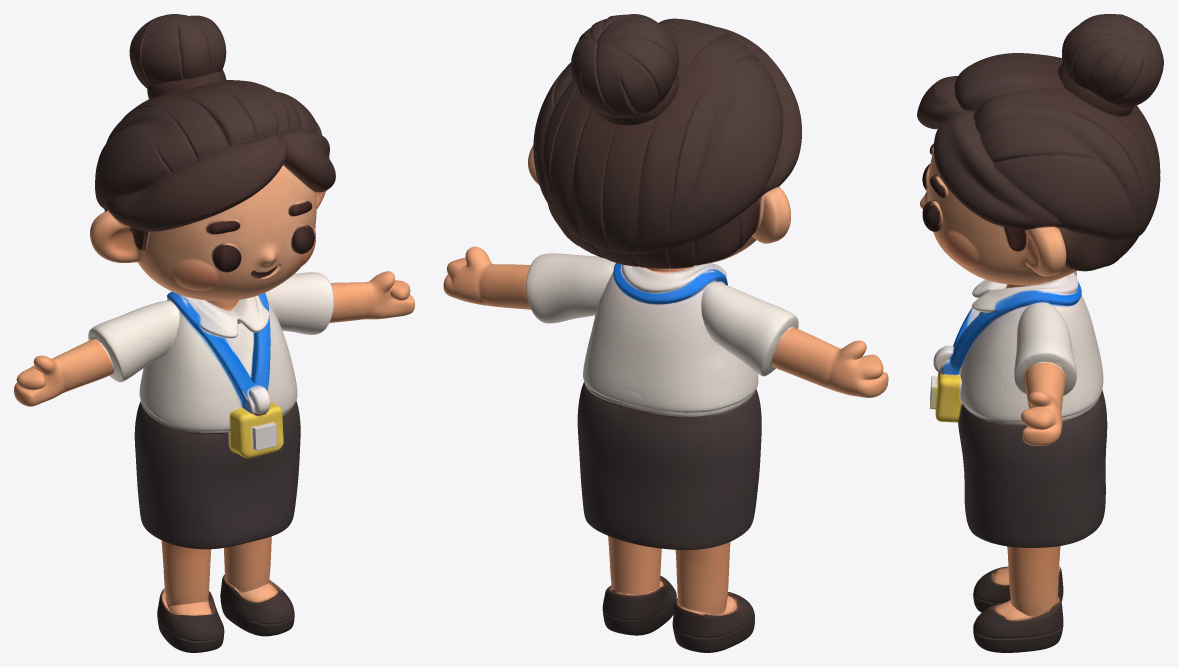
Rendered from tripo_convert_91d65fab-5eea-454a-84e6-52735a8d91f3.fbx.
3 renders of one model, left to right at view 1: azimuth 30°, elevation 25°; view 2: azimuth 150°, elevation 25°; view 3: azimuth 270°, elevation 25°, orthographic. The views are drawn at different scales.
Visible parts, largest first — view 1: tripo_node_91d65fab; view 2: tripo_node_91d65fab; view 3: tripo_node_91d65fab.
Boxes of the visible parts, x1,y1,x2,y2 form: tripo_node_91d65fab: [14, 14, 414, 652]; tripo_node_91d65fab: [443, 14, 888, 652]; tripo_node_91d65fab: [917, 14, 1163, 652].
Bounding box in the file's own units: 0.7081 × 0.9998 × 0.37.
Materials: 1 (1 with a texture image).
